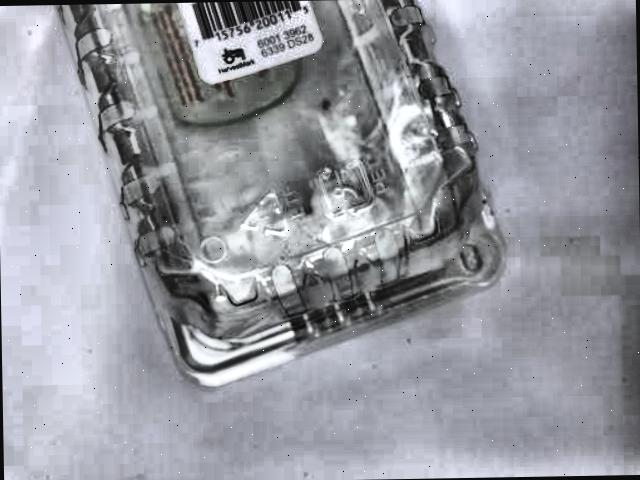Plastic: (50, 0, 521, 384)
